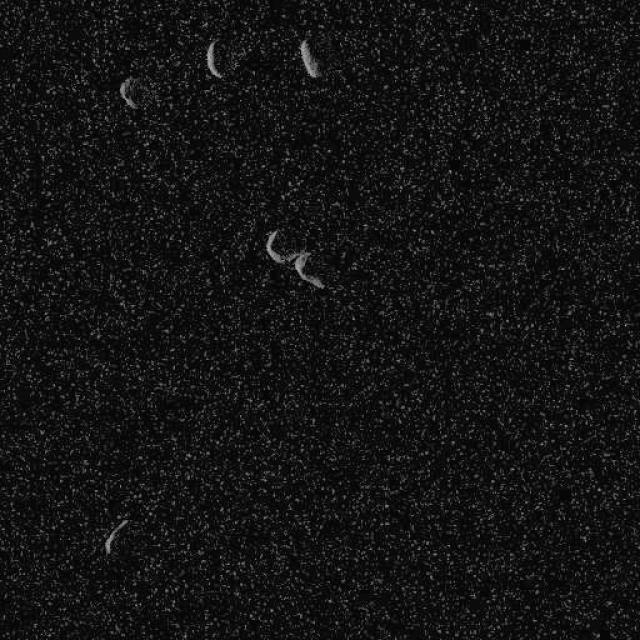D2: (264, 228, 326, 290), (102, 516, 128, 556), (298, 38, 322, 78), (204, 38, 225, 78), (118, 75, 140, 110)
